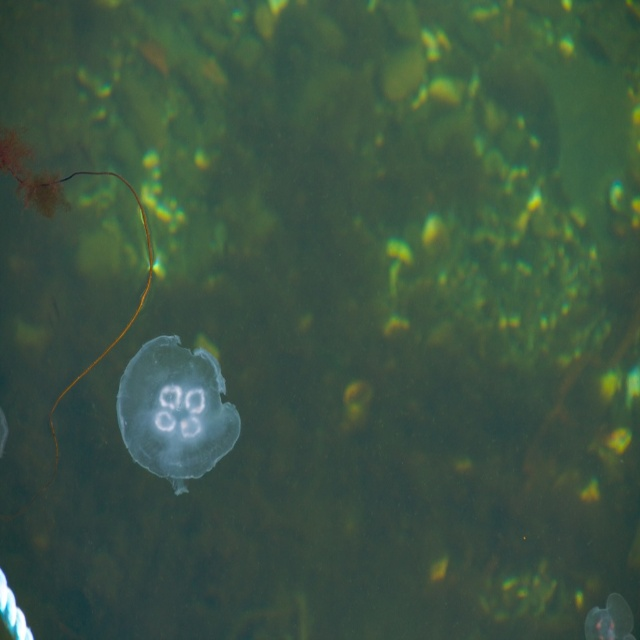Jellyfish: (107, 338, 244, 499)
